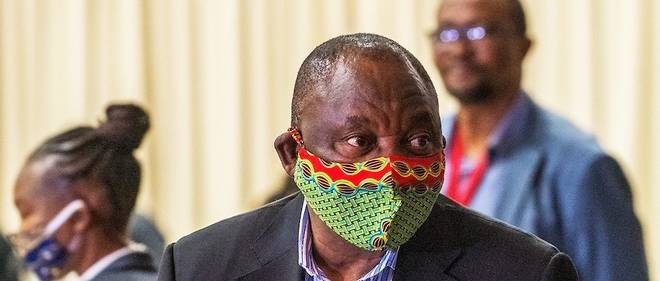with_incorrect_mask: (17, 176, 102, 277)
with_mask: (305, 78, 433, 254)
without_mask: (437, 7, 510, 86)
